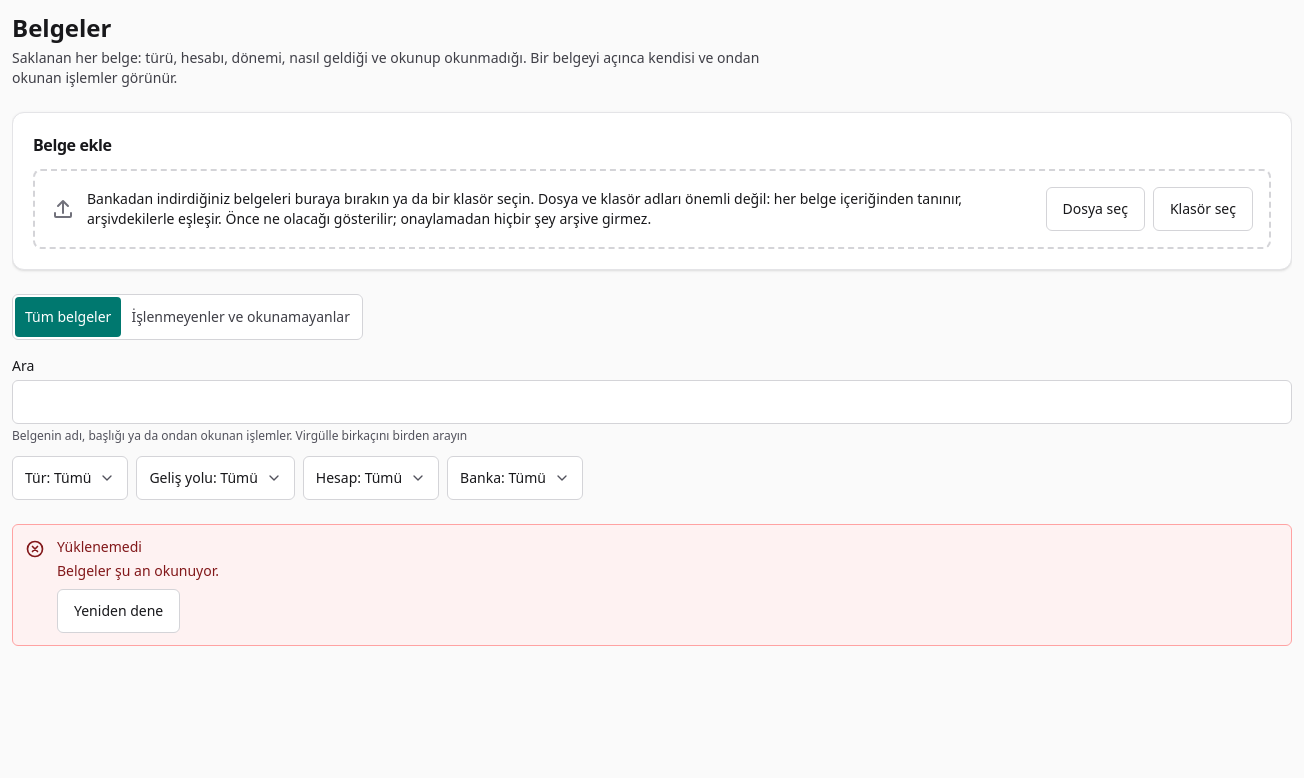
Test: DocumentsPage: its states › offers to try again when the list could not be read
Check: the text "Belgeler şu an okunuyor." is shown, box [57,561,219,581]
Click the button "Yeniden dene" at (119, 611), box [57,589,180,633]
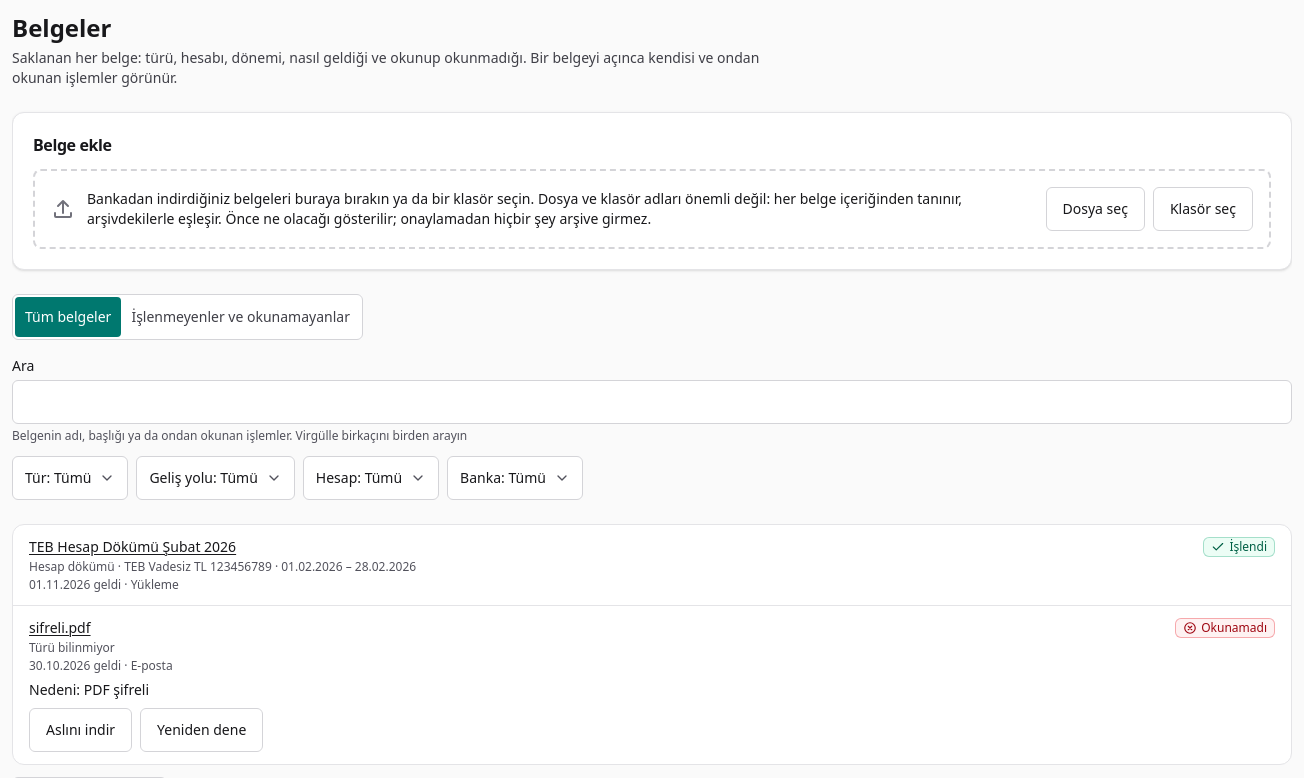
Check: the list named "Saklanan belgeler, en yenisi önce" is shown, box [12,524,1292,765]
